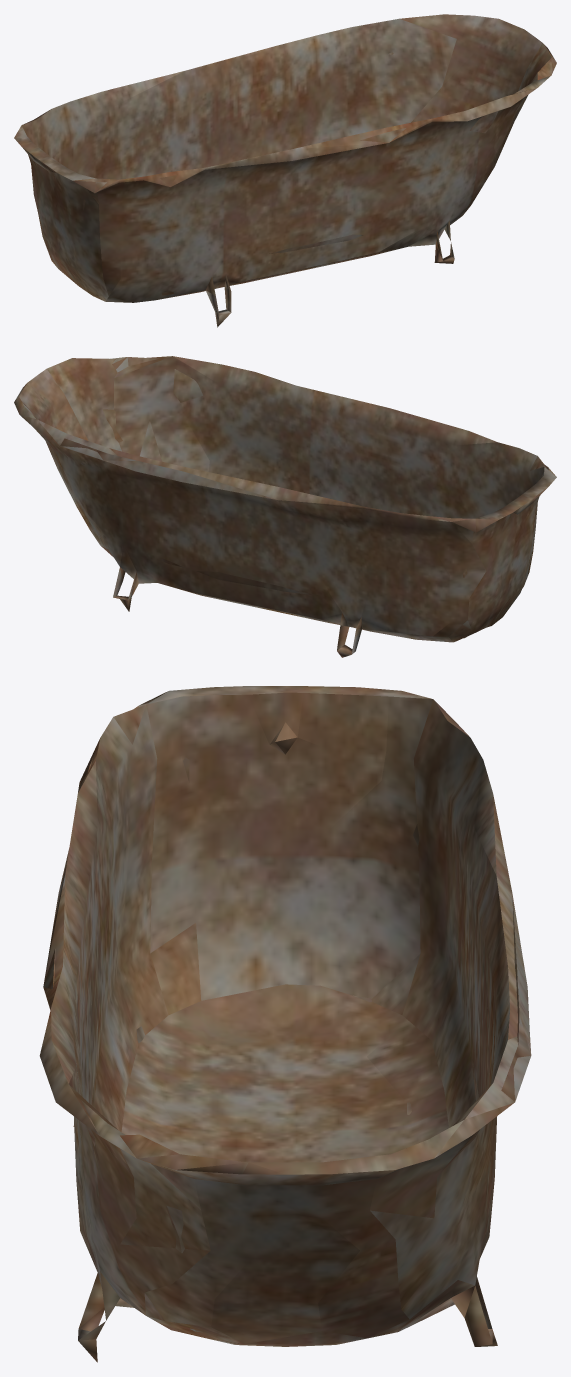
Rendered from bath.glb.
The picture shows the model from 3 angles, top to bottom: view 1: azimuth 30°, elevation 25°; view 2: azimuth 150°, elevation 25°; view 3: azimuth 270°, elevation 25°; orthographic projection. The views are drawn at different scales.
Parts seen in each view (by area): view 1: bath; view 2: bath; view 3: bath.
Part boxes in pixels (x1=…): bath: x1=14, y1=14, x2=556, y2=327; bath: x1=14, y1=356, x2=556, y2=657; bath: x1=39, y1=686, x2=531, y2=1362.
Bounding box in the file's own units: 29.03 × 9.06 × 12.4.
1 material, 1 textured.
